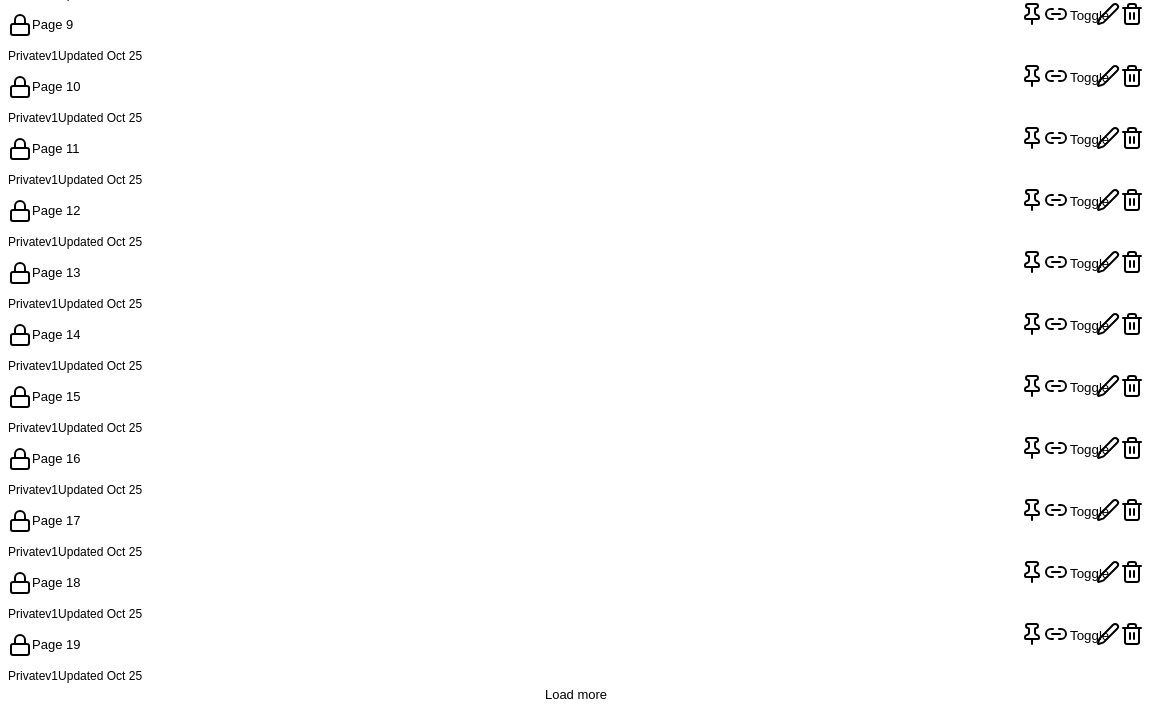
Test: ArtifactsSettingsTab › loads 20 at a time until a short page
(page scrolled)
Expected: the link "Page 19" is shown, [32,637,80,652]
Click the button "Load more" at (576, 695), box [545,684,607,706]
(page scrolled)
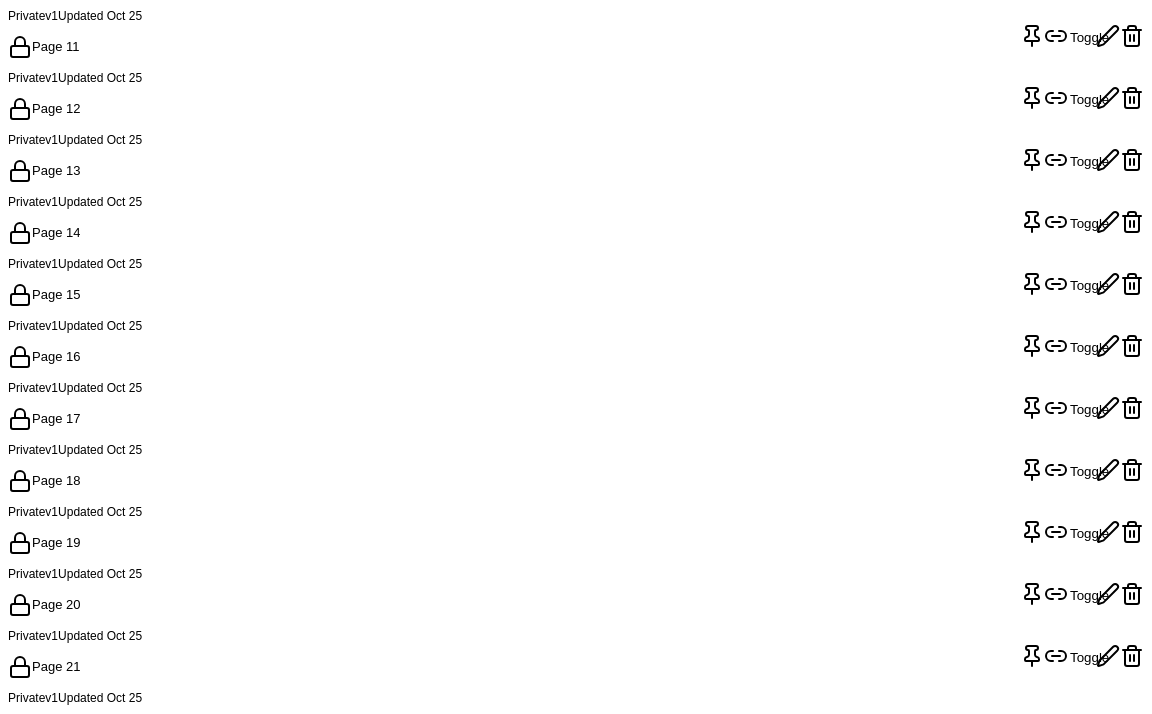
Result: the link "Page 21" is shown at [32,659,80,674]
Result: the button "Load more" is gone
